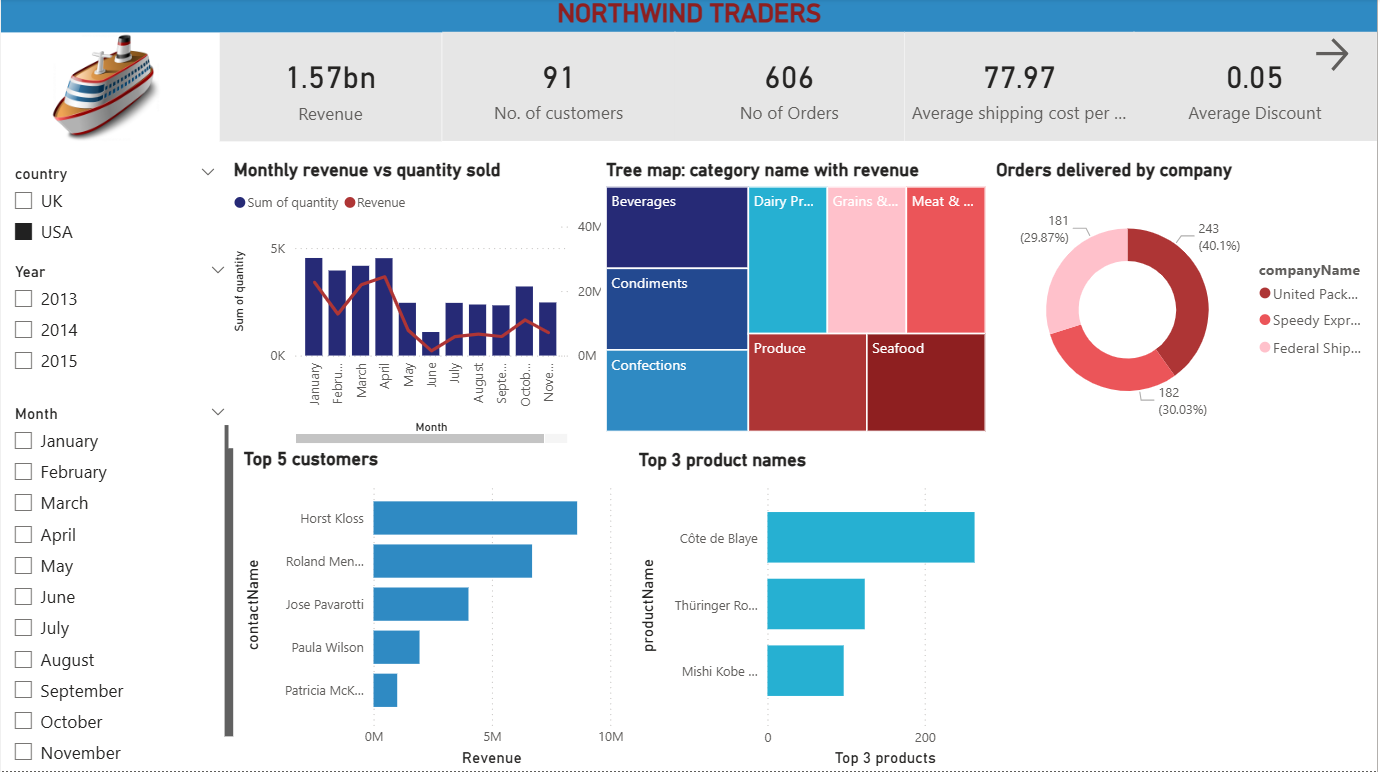

Layout of this report page (visuals, bound fields, positions):
{"tool":"powerbi","page":{"name":"Page 1","canvas":[1280,720],"ordinal":0},"visuals":[{"type":"shape","title":"NORTHWIND TRADERS","box":[0,0,1280.2,32],"z":0},{"type":"card","fields":{"Values":["Customers.No. of customers"]},"box":[410.2,30.8,216.9,101.9],"z":1000},{"type":"card","fields":{"Values":["Orders.No of Orders"]},"box":[627.1,30.8,213.4,101.9],"z":2000},{"type":"card","fields":{"Values":["Orders.Average shipping cost per order"]},"box":[840.5,30.8,213.4,101.9],"z":3000},{"type":"card","fields":{"Values":["Order_details.Average Discount"]},"box":[1053.8,30.8,226.4,101.9],"z":4000},{"type":"barChart","title":"Top 3 product names","fields":{"Y":["Products.Top 3 products"],"Category":["Products.productName"]},"box":[588,419.6,359.2,299.9],"z":5000},{"type":"donutChart","title":"Orders delivered by company","fields":{"Category":["Shippers.companyName"],"Y":["CountNonNull(Orders.orderID)"]},"box":[921.1,150.5,359.2,259.6],"z":6000},{"type":"slicer","fields":{"Values":["Employees.country"]},"box":[0,150,211.6,102.3],"z":7000},{"type":"slicer","fields":{"Values":["Orders.orderDate.Variation.Date Hierarchy.Year"]},"box":[0,240.7,220.9,132.6],"z":8000},{"type":"slicer","fields":{"Values":["Orders.orderDate.Variation.Date Hierarchy.Month"]},"box":[0,373.3,220.9,346.5],"z":9000},{"type":"image","box":[0,32,195.6,101.9],"z":10000},{"type":"card","fields":{"Values":["Order_details.Revenue"]},"box":[203.9,32,206.3,100.8],"z":11000},{"type":"lineStackedColumnComboChart","title":"Monthly revenue vs quantity sold","fields":{"Y":["Sum(Order_details.quantity)"],"Category":["Orders.orderDate.Variation.Date Hierarchy.Month"],"Y2":["Order_details.Revenue"]},"box":[211.6,150,372.1,268.6],"z":12000},{"type":"treemap","title":"Tree map: category name with revenue","fields":{"Group":["categories.categoryName"],"Values":["Order_details.Revenue"]},"box":[558.3,150.5,362.7,258.4],"z":13000},{"type":"barChart","title":"Top 5 customers","fields":{"Category":["Customers.contactName"],"Y":["Order_details.Revenue"]},"box":[221,419,363,301],"z":14000},{"type":"actionButton","box":[1217.4,32,62.8,40.3],"z":15000}]}

Visuals, with their boxes in screenshot pixels (x1, y1, x2, y2), scaled from the page's 1280x720 canvas onto the 1380x772 screenshot:
"NORTHWIND TRADERS" shape: region(0, 0, 1379, 34)
card - Customers.No. of customers: region(442, 33, 676, 142)
card - Orders.No of Orders: region(676, 33, 906, 142)
card - Orders.Average shipping cost per order: region(906, 33, 1136, 142)
card - Order_details.Average Discount: region(1136, 33, 1379, 142)
"Top 3 product names" barChart: region(634, 450, 1021, 771)
"Orders delivered by company" donutChart: region(993, 161, 1379, 440)
slicer - Employees.country: region(0, 161, 228, 271)
slicer - Orders.orderDate.Variation.Date Hierarchy.Year: region(0, 258, 238, 400)
slicer - Orders.orderDate.Variation.Date Hierarchy.Month: region(0, 400, 238, 771)
image: region(0, 34, 211, 144)
card - Order_details.Revenue: region(220, 34, 442, 142)
"Monthly revenue vs quantity sold" lineStackedColumnComboChart: region(228, 161, 629, 449)
"Tree map: category name with revenue" treemap: region(602, 161, 993, 438)
"Top 5 customers" barChart: region(238, 449, 630, 771)
actionButton: region(1313, 34, 1379, 78)
